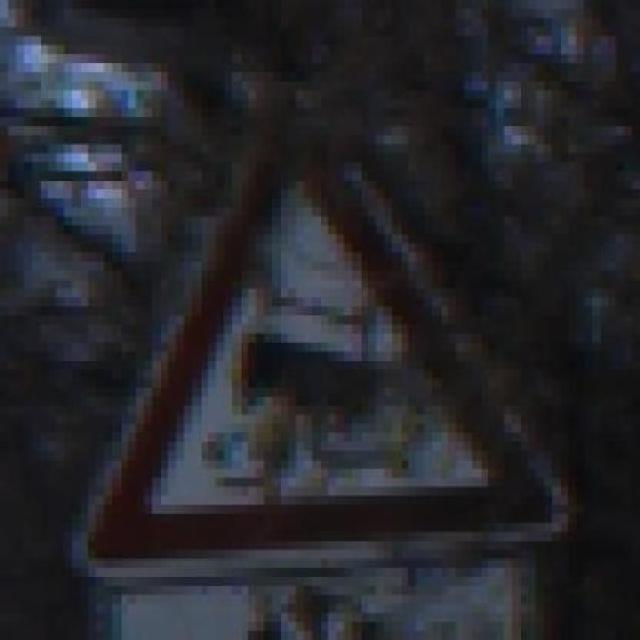Slippery Road Ahead: (64, 71, 591, 568)
